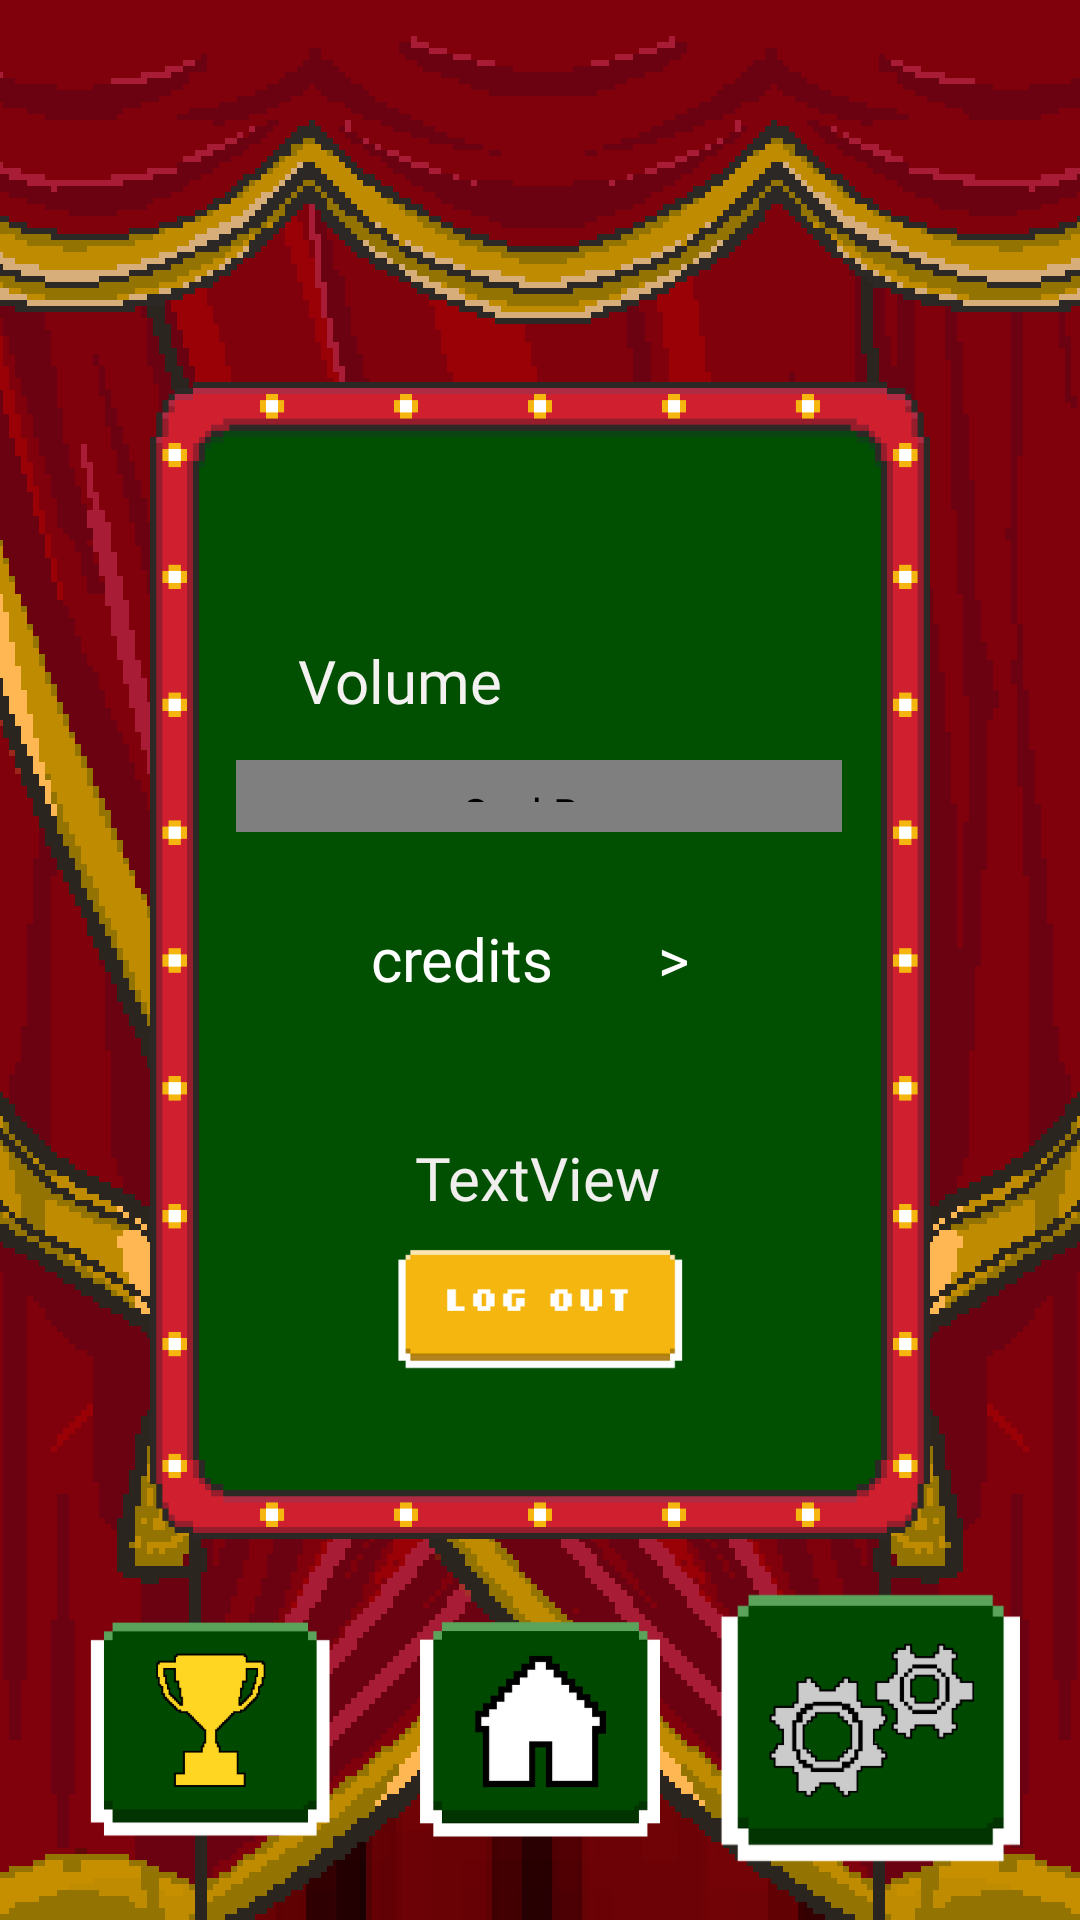

Where to tap for icons on this 1080px×1920px app screen, as (x,y):
homebutton: (540,1730)
leadboardbutton: (210,1730)
settingbutton: (870,1730)
